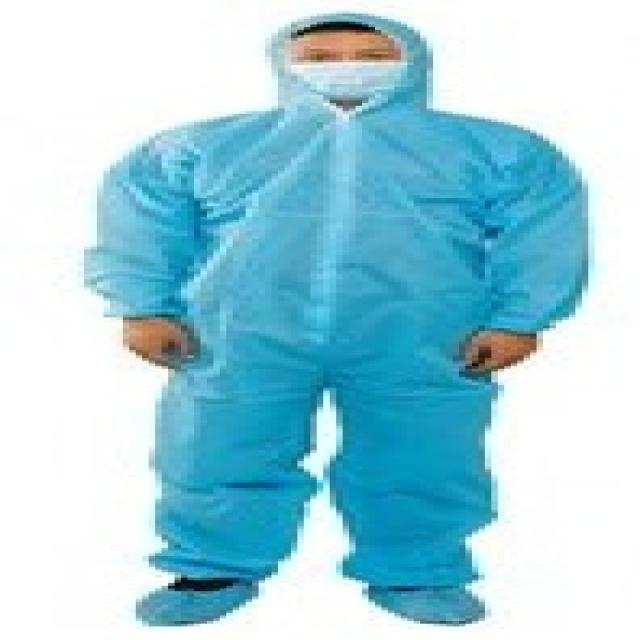Coverall: (52, 5, 575, 640)
Mask: (284, 57, 408, 106)
